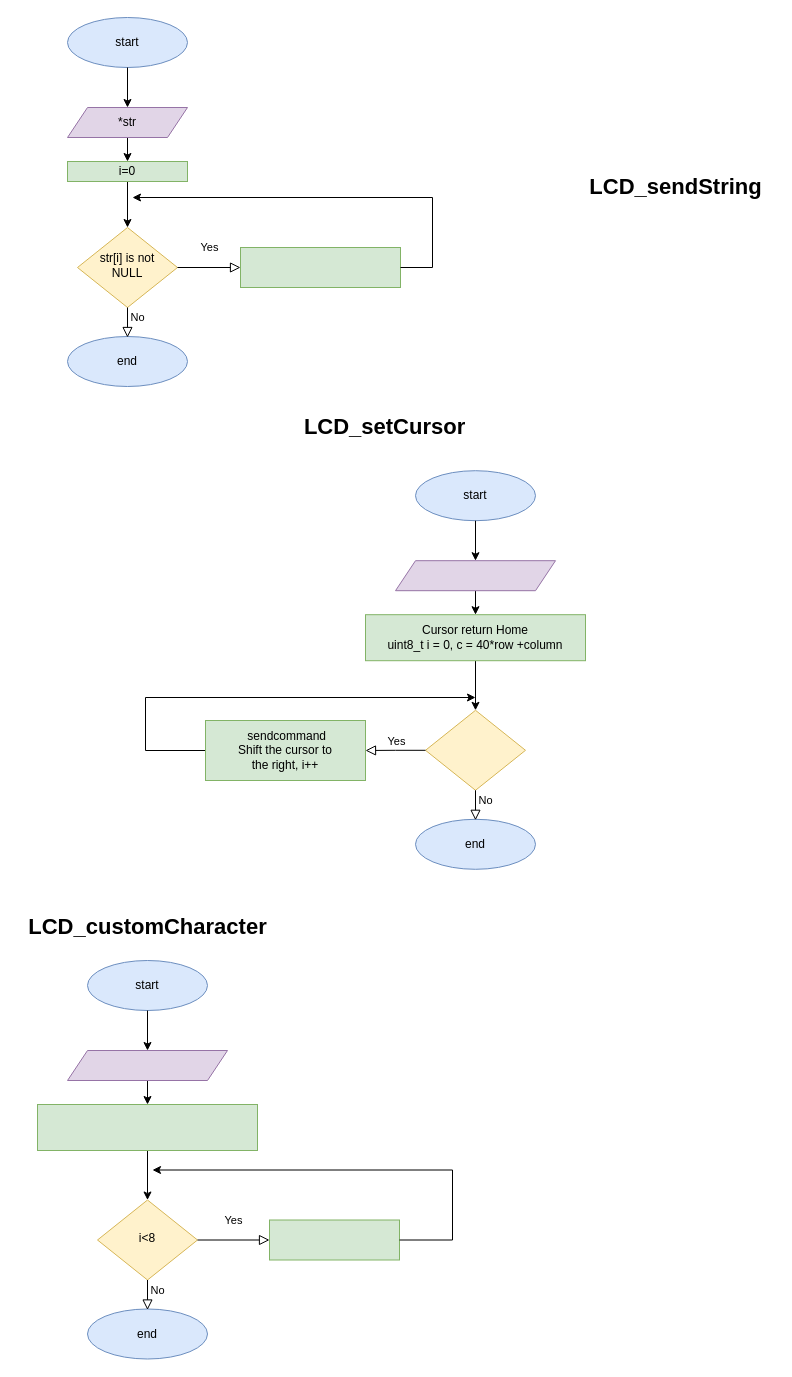
Image size: 792x1377. Some labels were removed from this diagram. The box of each missing label's shape, as (x1, y1, x2, y2) in pixels:
*pattrern , location: (66, 1050, 228, 1080)
i<c: (424, 709, 526, 790)
i=0 sendcommand (&CGRAM + 8*location): (36, 1104, 258, 1150)
row , column: (394, 560, 556, 591)
sendchar pattern[i] i++: (268, 1219, 400, 1260)
sendchar srt[i] i++: (240, 246, 400, 288)
